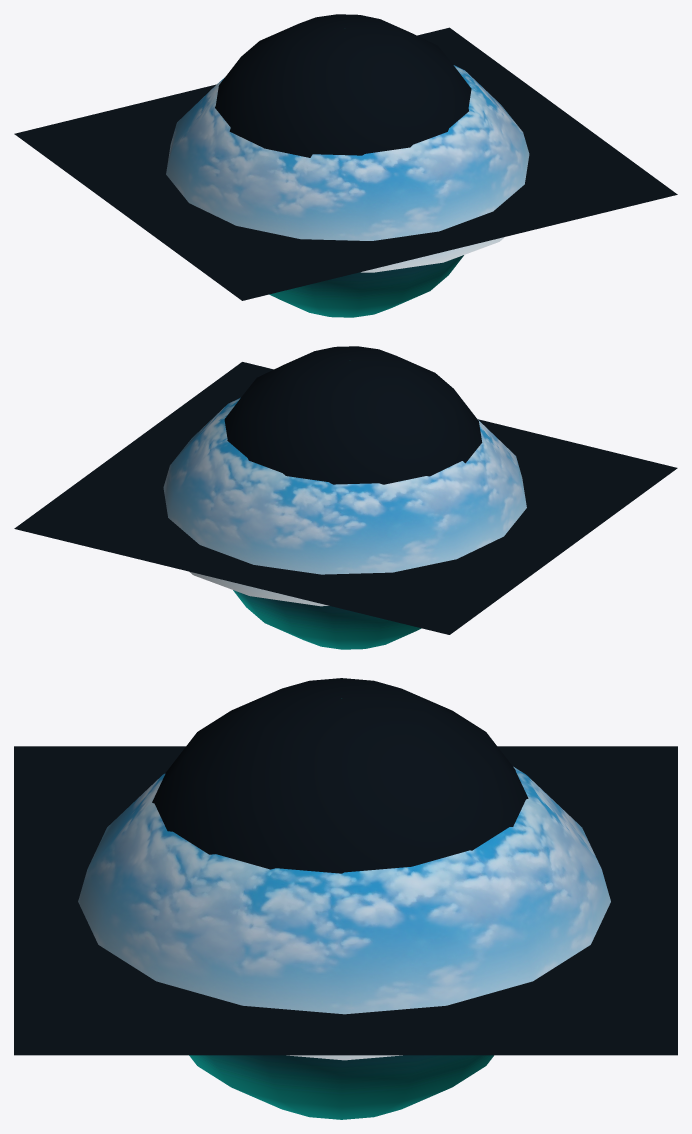
The model's file is BattleArea_Dun0100001.fbx.
The picture shows the model from 3 angles, top to bottom: view 1: azimuth 30°, elevation 25°; view 2: azimuth 150°, elevation 25°; view 3: azimuth 270°, elevation 25°; orthographic projection. The views are drawn at different scales.
Visible parts, largest first — view 1: skillbg_02, sky_01_001, skillbg_01; view 2: skillbg_02, sky_01_001, skillbg_01; view 3: skillbg_02, sky_01_001, skillbg_01.
Boxes of the visible parts, x1,y1,x2,y2 form: skillbg_02: (14, 27, 677, 300); sky_01_001: (166, 65, 529, 272); skillbg_01: (215, 14, 471, 317); skillbg_02: (14, 362, 677, 634); sky_01_001: (163, 397, 526, 606); skillbg_01: (224, 346, 482, 649); skillbg_02: (14, 746, 677, 1055); sky_01_001: (78, 766, 610, 1060); skillbg_01: (152, 678, 528, 1119).
Bounding box in the file's own units: 310 × 187 × 281.
